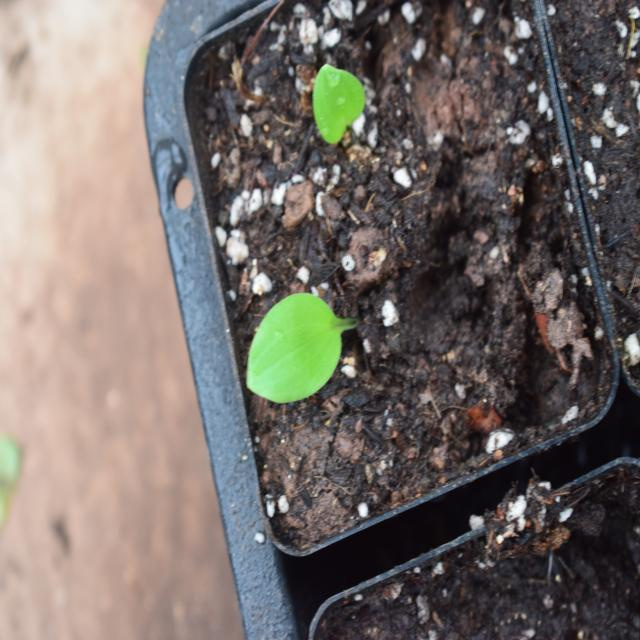Common Dayflower: (231, 283, 358, 418), (304, 65, 372, 160)
